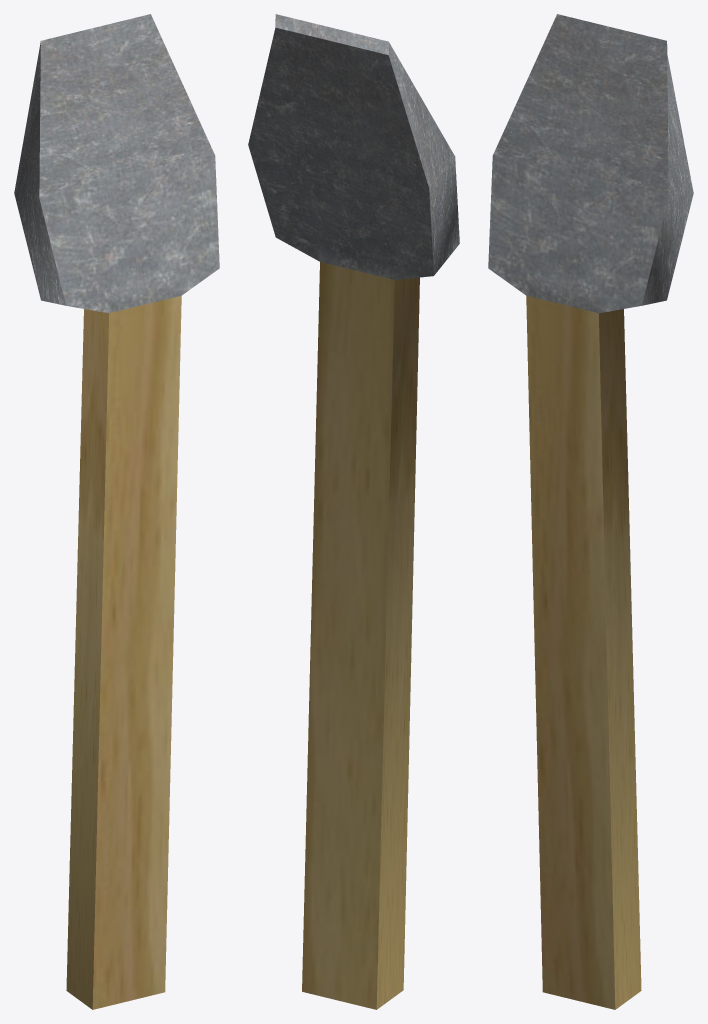
The model's file is spade.FBX.
3 views of the same model, side by side, from view 1: azimuth 30°, elevation 25°; view 2: azimuth 150°, elevation 25°; view 3: azimuth 330°, elevation 25° (orthographic). The views are drawn at different scales.
Parts seen in each view (by area): view 1: spade; view 2: spade; view 3: spade.
Part boxes in pixels (bbox=[...]): spade: bbox=[14, 14, 219, 1009]; spade: bbox=[248, 14, 459, 1009]; spade: bbox=[488, 14, 693, 1009].
Size of the model in its own units: 12.41 by 64.04 by 6.09.
